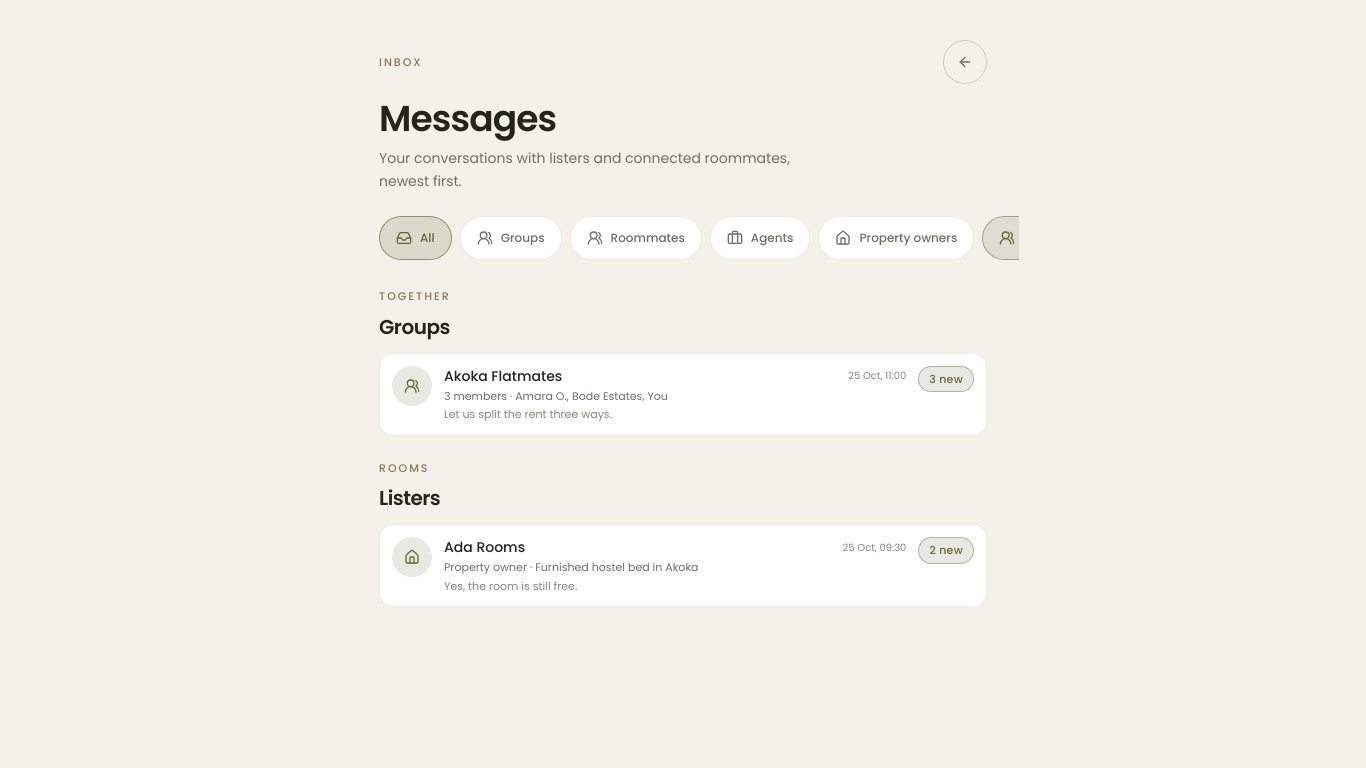
Messages inbox › lists groups and opens the group thread
Expected: the text "Akoka Flatmates" is shown, left=444, top=366, right=562, bottom=386
Expected: the text "3 new" is shown, left=918, top=366, right=974, bottom=392
Click the button "Akoka Flatmates": [412, 386] box left=379, top=353, right=987, bottom=436
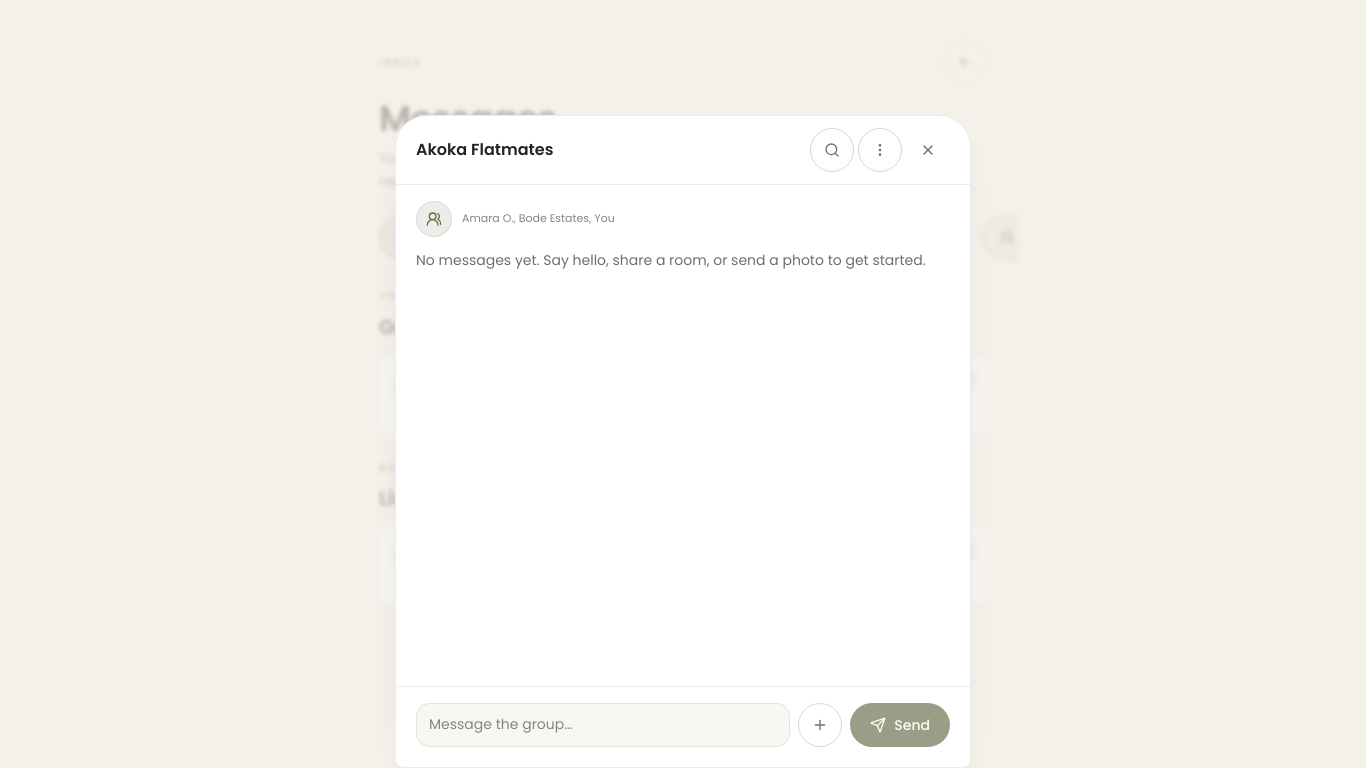
Expected: the text box labelled "Message" is shown, left=416, top=703, right=790, bottom=747
